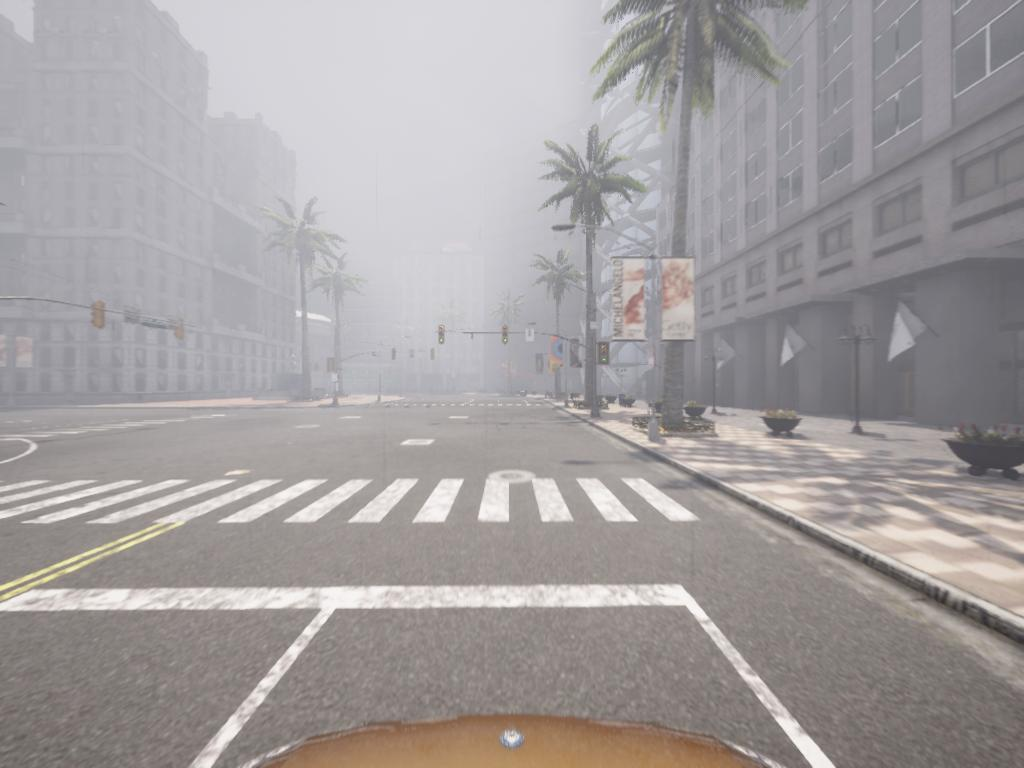traffic_light: (92, 304, 105, 329), (601, 344, 610, 366), (504, 326, 510, 345), (439, 326, 445, 345), (431, 349, 435, 361), (393, 350, 397, 361)
